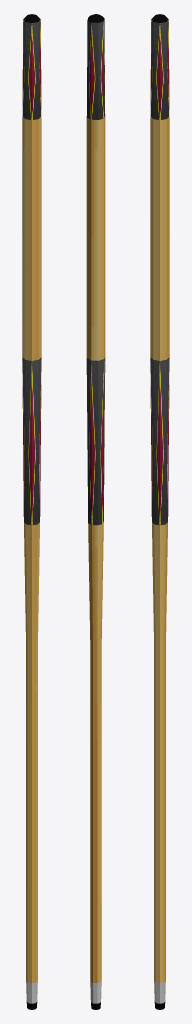
File: Cues.fbx
The picture shows the model from 3 angles, left to right: view 1: azimuth 90°, elevation 25°; view 2: azimuth 150°, elevation 25°; view 3: azimuth 270°, elevation 25°; orthographic projection.
Visible parts, largest first — view 1: CuesMesh; view 2: CuesMesh; view 3: CuesMesh.
Part boxes in pixels (x1,y1,x2,y2): CuesMesh: (22, 14, 41, 1009); CuesMesh: (86, 14, 105, 1009); CuesMesh: (150, 14, 169, 1009).
Size of the model in its own units: 2.64 by 150 by 2.64.
7 materials, 4 textured.
